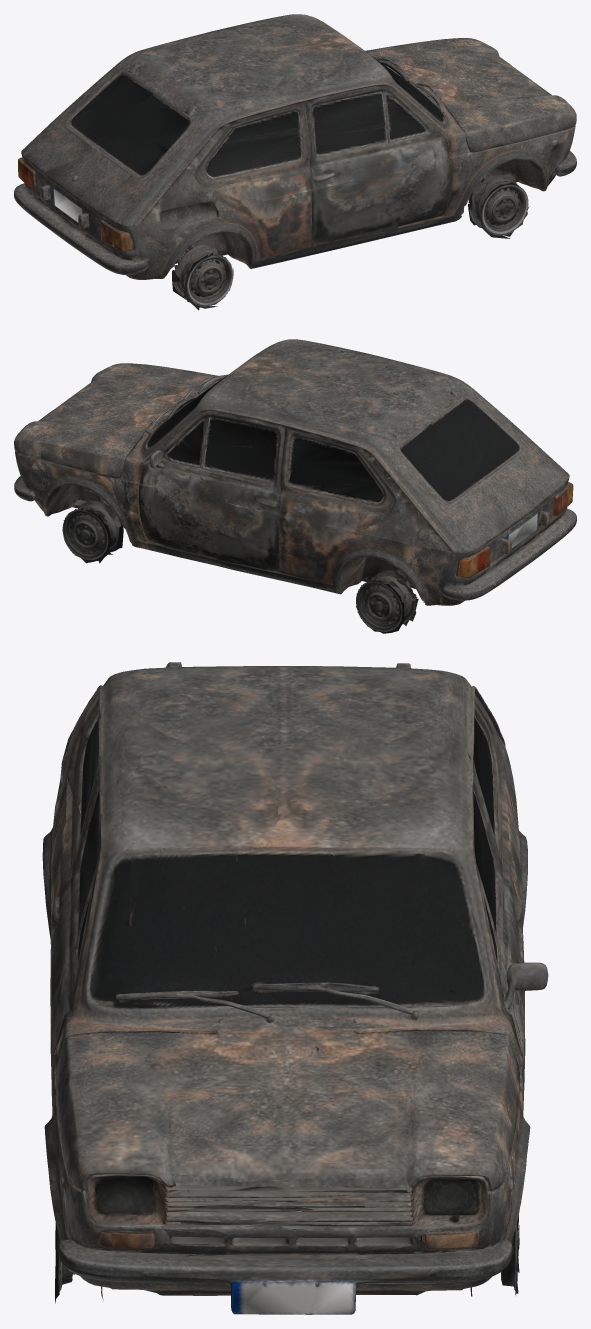
The model's file is jabuti-queimado__01a16dcf.glb.
The picture shows the model from 3 angles, top to bottom: view 1: azimuth 30°, elevation 25°; view 2: azimuth 150°, elevation 25°; view 3: azimuth 270°, elevation 25°; orthographic projection. The views are drawn at different scales.
Parts seen in each view (by area): view 1: jabuti-queimado; view 2: jabuti-queimado; view 3: jabuti-queimado.
Part boxes in pixels (bbox=[...]): jabuti-queimado: bbox=[14, 14, 576, 310]; jabuti-queimado: bbox=[14, 339, 576, 633]; jabuti-queimado: bbox=[42, 662, 548, 1314].
Size of the model in its own units: 3.62 by 1.36 by 1.67.
Materials: 1 (1 with a texture image).
